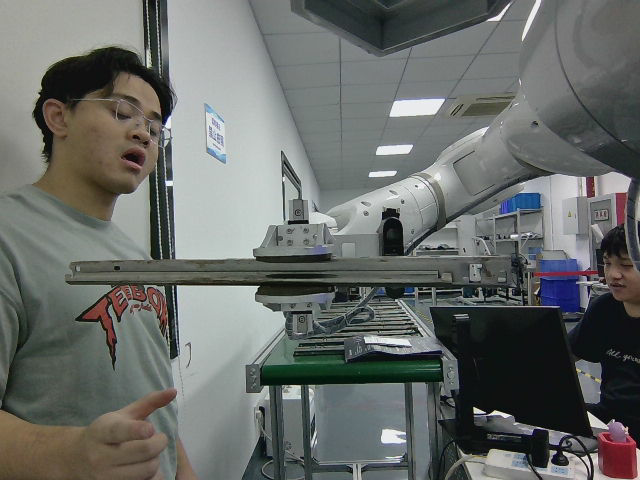down: (65, 255, 510, 289)
